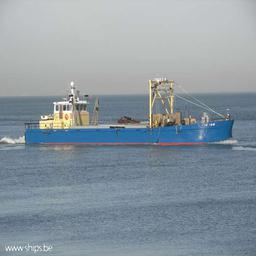Ship: (23, 79, 236, 149)
